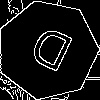D: (22, 25, 76, 82)
